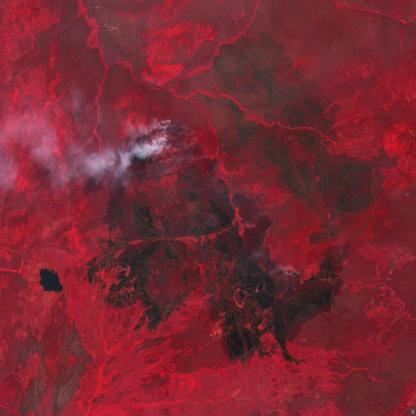fire: (99, 112, 190, 184)
